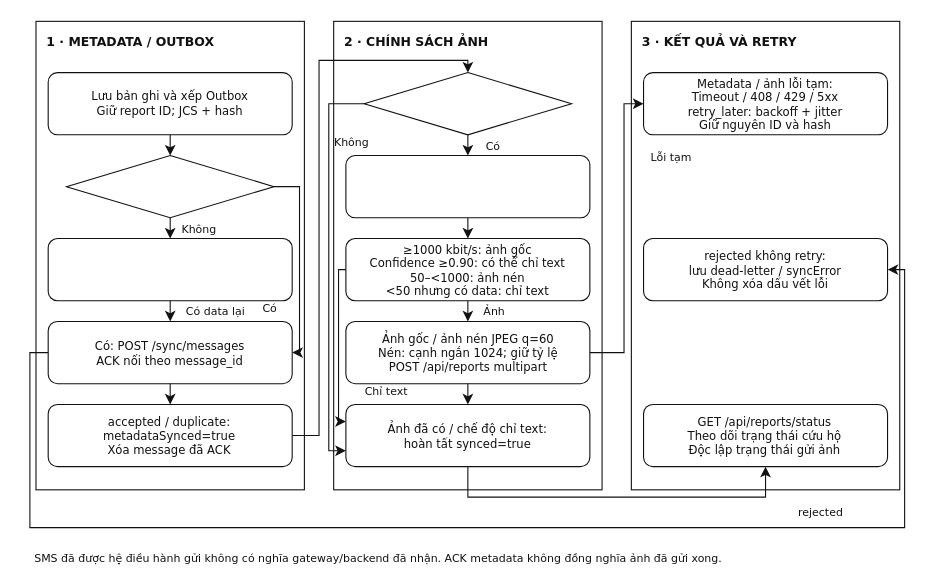
Some shapes in this 936 by 588 pixel diagram are drawn without their labels. The shapes that lost their labels are listed below. From the top down, each one's centre as x and y in pixels, then its label:
the point at 467,103: Còn ảnh phải gửi?
the point at 169,186: Có data?
the point at 467,186: Nếu có ảnh: đo /probe 64 KiB; ngân sách 6 s Đánh giá lại khi đồng bộ muộn
the point at 169,269: Không: thử SMS nếu đủ điều kiện Vẫn giữ Outbox chờ HTTP
